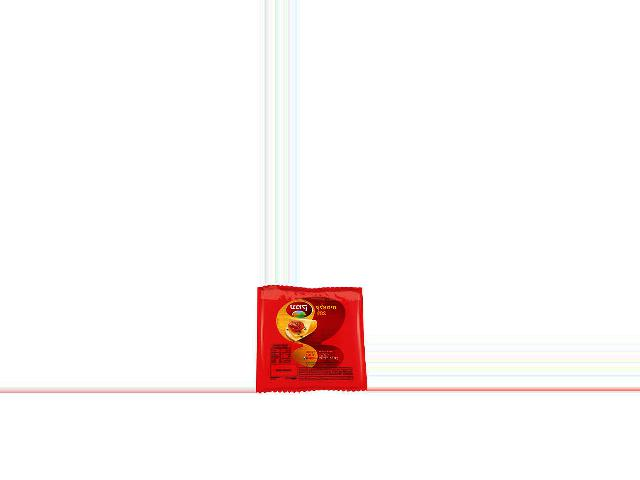cheese: (255, 286, 363, 393)
